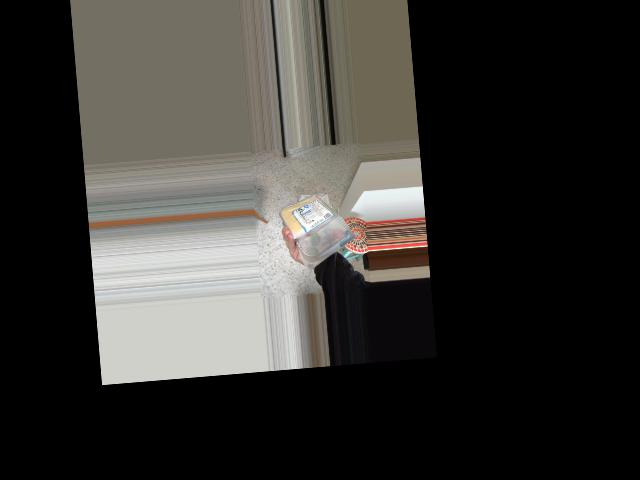cheese: (287, 185, 358, 265)
